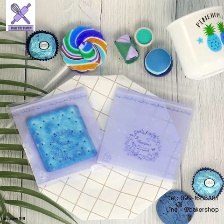snack: (0, 80, 115, 193), (90, 78, 200, 189), (161, 0, 224, 85)
